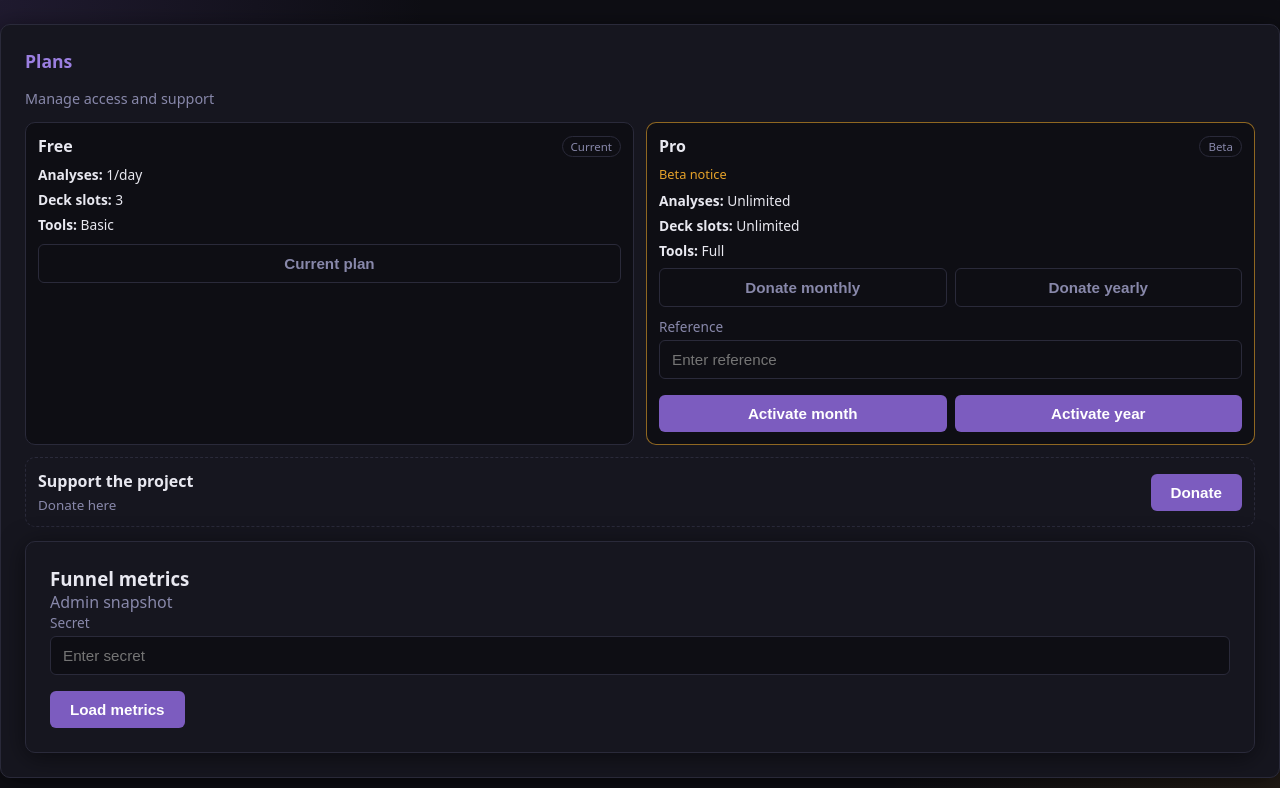
Test case: PlansSupport metrics panel › loads and renders the funnel metrics snapshot
Type "admin-secret" into the password field with placeholder "Enter secret" at (640, 656), box [50,636,1230,675]
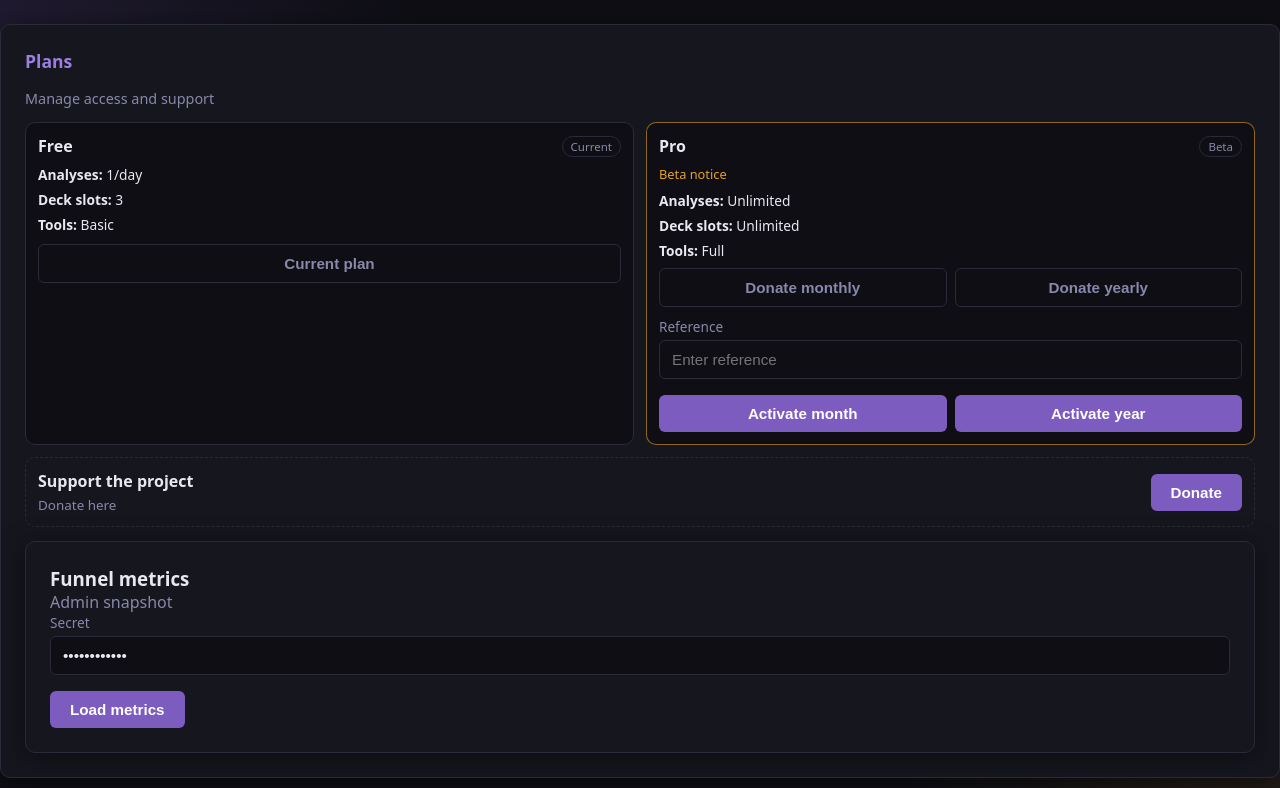
Click the button "Load metrics" at (117, 710), box [50,691,184,728]
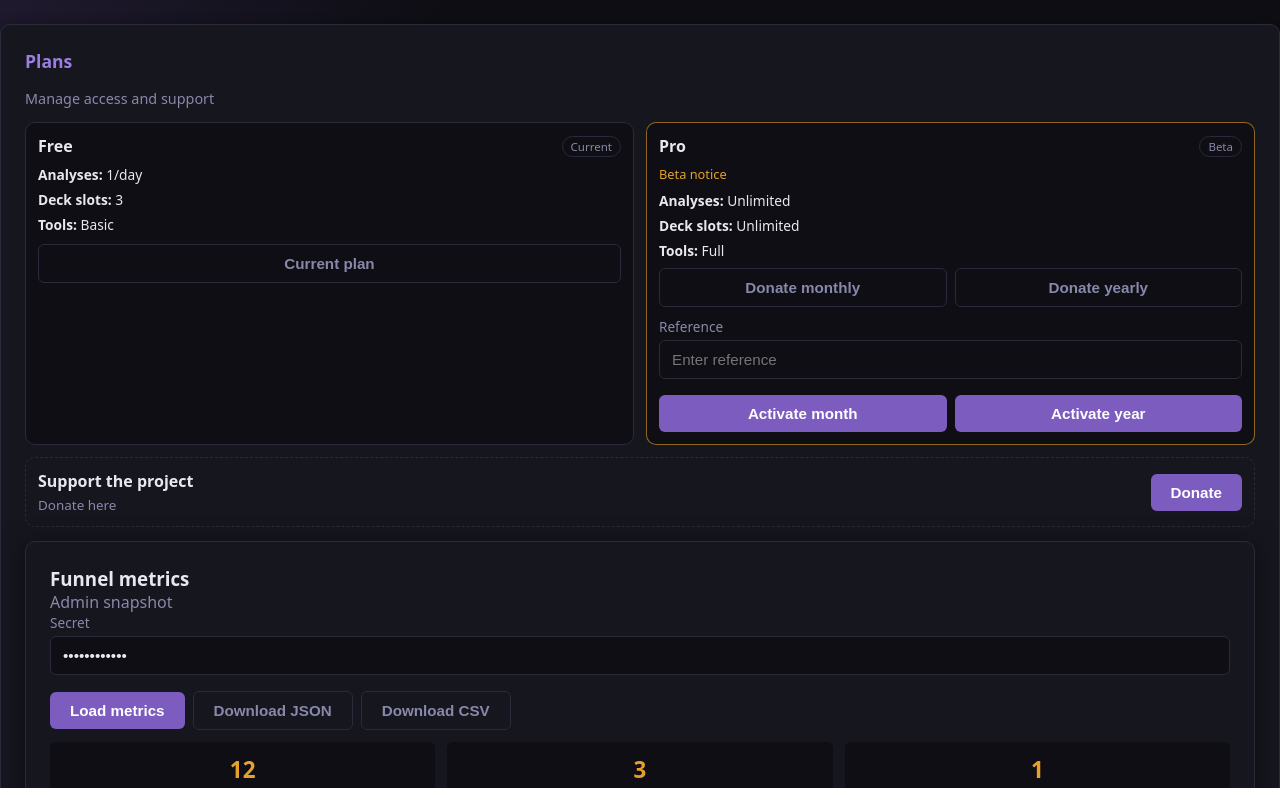
Expected: the text "12" is shown, [230,754,255,785]
Expected: the button "Download JSON" is shown, [192,691,353,730]
Expected: the button "Download CSV" is shown, [361,691,511,730]
